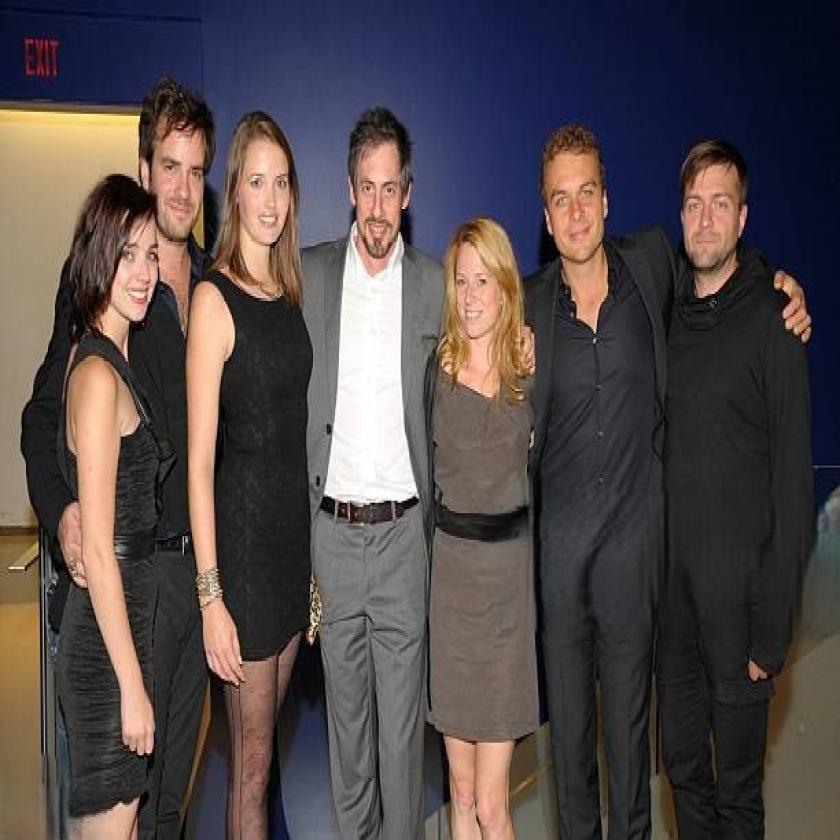Sin_casco: (80, 168, 166, 349), (140, 76, 218, 266), (226, 112, 302, 297), (672, 136, 752, 307), (343, 104, 418, 282), (539, 120, 613, 288), (442, 213, 522, 368)
